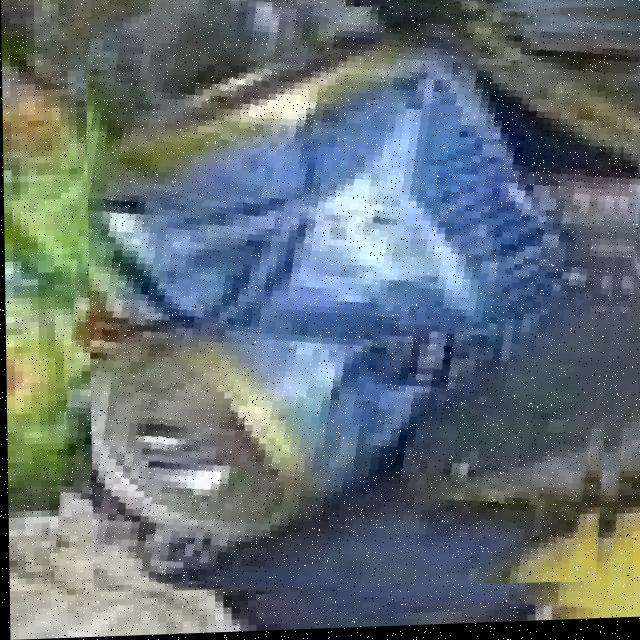litter: (85, 9, 615, 592)
